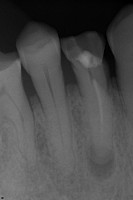Furcation Involvement: (88, 149, 116, 183)
